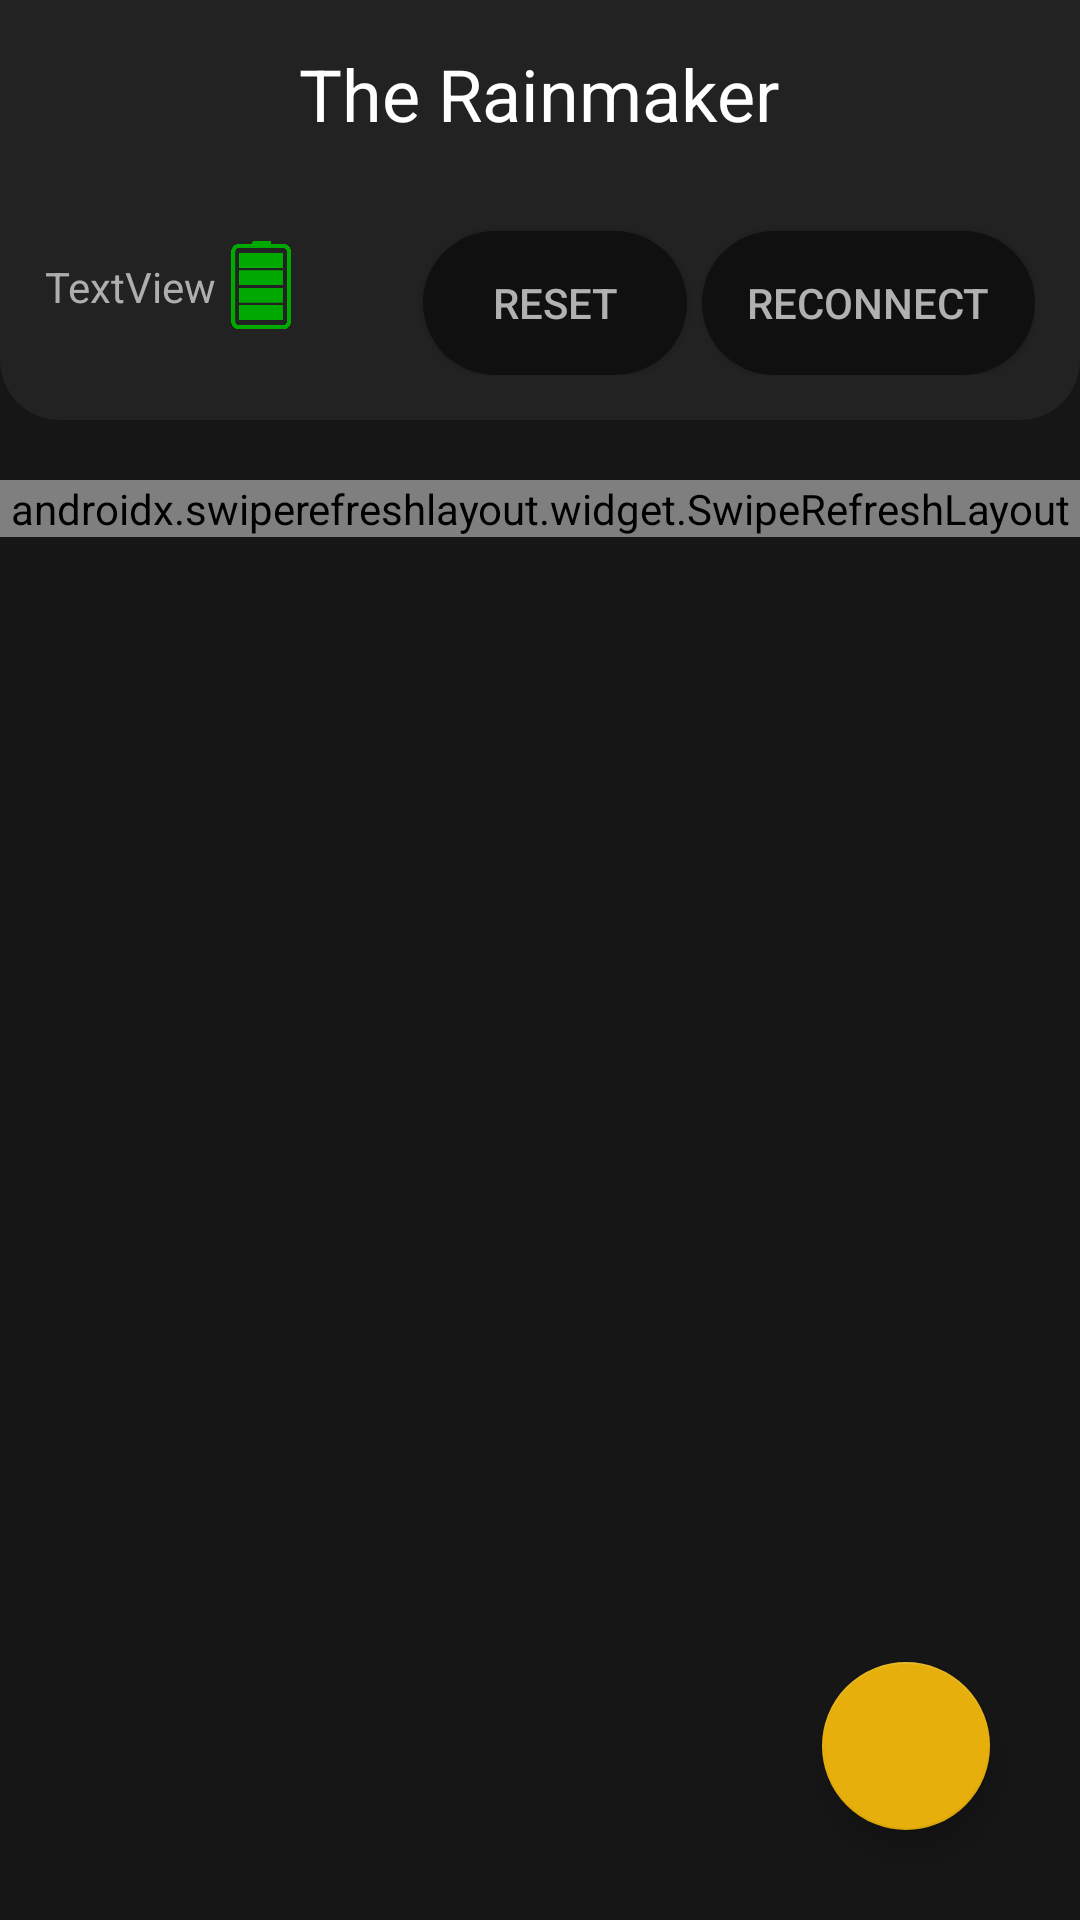

Locate icon controls on the screen. Image size 1080x1920, boxes as [x1,y1,x2,y2].
bat full: [231,241,291,329]
